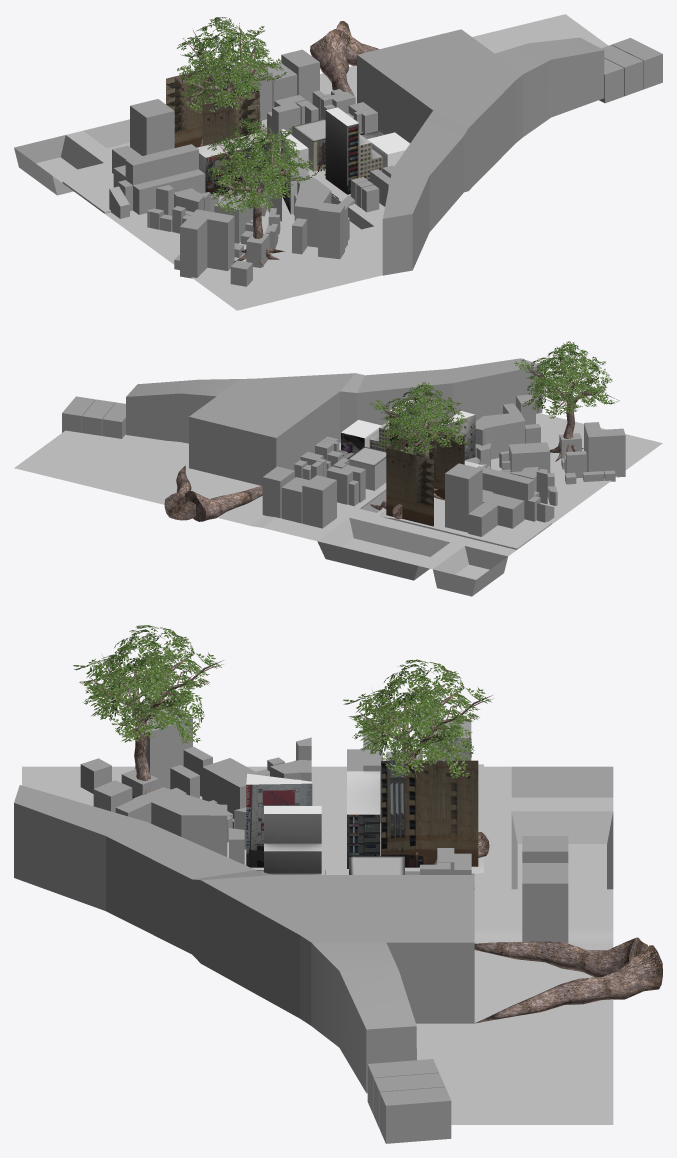
File: terrain.fbx
The picture shows the model from 3 angles, top to bottom: view 1: azimuth 30°, elevation 25°; view 2: azimuth 150°, elevation 25°; view 3: azimuth 270°, elevation 25°; orthographic projection. The views are drawn at different scales.
Visible parts, largest first — view 1: terrain:pCube1, terrain:pPlane1, terrain:pCube33, terrain:pCube50, terrain:tree_bigbig:leaves1, terrain:leaves1, terrain:tree_bigbig:leaves2, terrain:leaves2, terrain:pCube104, terrain:pCube26, terrain:pCube52, terrain:bigroot:root (+26 smaller); view 2: terrain:pPlane1, terrain:pCube1, terrain:pCube33, terrain:tree_bigbig:leaves1, terrain:leaves1, terrain:pCube50, terrain:tree_bigbig:leaves2, terrain:leaves2, terrain:pCube52, terrain:pCube104, terrain:pCube61, terrain:pCube53 (+18 smaller); view 3: terrain:pCube1, terrain:pPlane1, terrain:pCube33, terrain:tree_bigbig:leaves1, terrain:leaves1, terrain:tree_bigbig:leaves2, terrain:leaves2, terrain:root, terrain:pCube61, terrain:pCube26, terrain:pCube112, terrain:bigroot:root (+14 smaller).
Boxes of the visible parts, x1,y1,x2,y2 form: terrain:pCube1: [357, 29, 604, 275]; terrain:pPlane1: [14, 14, 607, 310]; terrain:pCube33: [166, 67, 260, 147]; terrain:pCube50: [113, 144, 205, 214]; terrain:tree_bigbig:leaves1: [207, 118, 317, 206]; terrain:leaves1: [177, 17, 286, 106]; terrain:tree_bigbig:leaves2: [207, 128, 313, 213]; terrain:leaves2: [177, 28, 283, 113]; terrain:pCube104: [180, 209, 234, 278]; terrain:pCube26: [325, 107, 382, 194]; terrain:pCube52: [130, 99, 174, 155]; terrain:bigroot:root: [310, 29, 354, 95]; terrain:pPlane1: [14, 413, 662, 596]; terrain:pCube1: [126, 358, 542, 485]; terrain:pCube33: [386, 428, 464, 526]; terrain:tree_bigbig:leaves1: [514, 341, 612, 413]; terrain:leaves1: [369, 382, 467, 454]; terrain:pCube50: [477, 466, 540, 528]; terrain:tree_bigbig:leaves2: [522, 344, 619, 418]; terrain:leaves2: [377, 385, 474, 455]; terrain:pCube52: [445, 463, 482, 532]; terrain:pCube104: [584, 422, 625, 477]; terrain:pCube61: [475, 403, 525, 459]; terrain:pCube53: [302, 475, 336, 528]; terrain:pCube1: [14, 785, 474, 1093]; terrain:pPlane1: [22, 764, 613, 1124]; terrain:pCube33: [381, 760, 478, 867]; terrain:tree_bigbig:leaves1: [90, 625, 221, 741]; terrain:leaves1: [360, 659, 491, 775]; terrain:tree_bigbig:leaves2: [73, 635, 204, 743]; terrain:leaves2: [343, 669, 474, 778]; terrain:root: [475, 945, 662, 1023]; terrain:pCube61: [115, 787, 227, 856]; terrain:pCube26: [264, 806, 321, 874]; terrain:pCube112: [380, 1087, 451, 1143]; terrain:bigroot:root: [474, 937, 647, 977].
Bounding box in the file's own units: 3040 × 952 × 2263.
